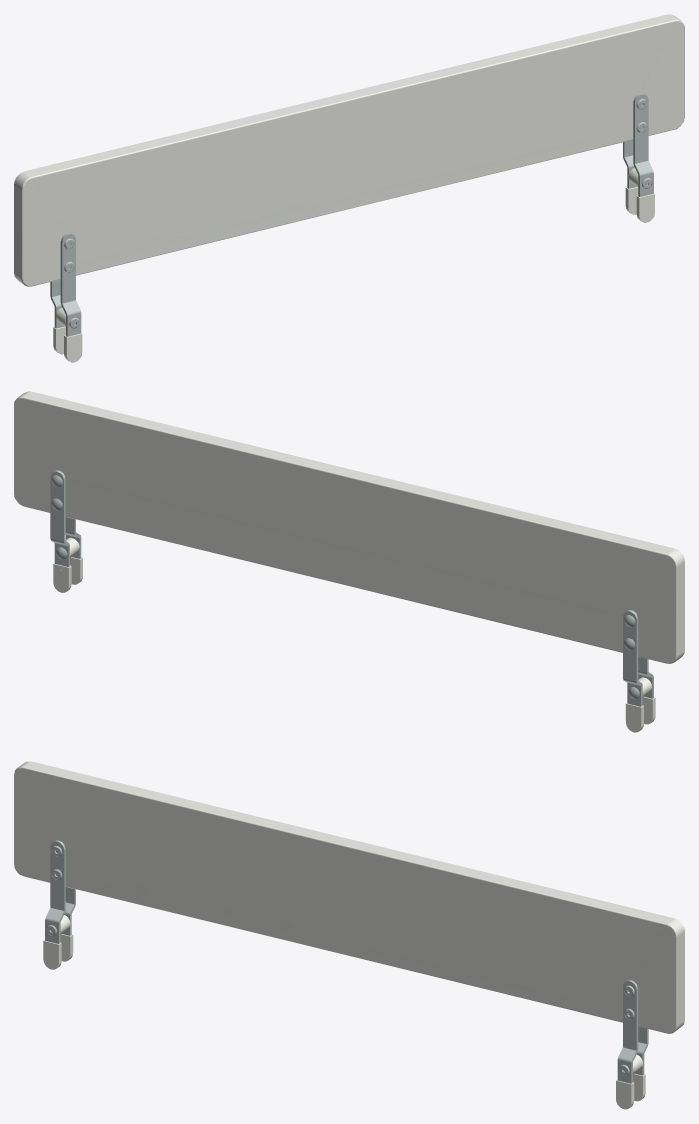
The model's file is nattapa_barierka_ochronna_50465761.glb.
The picture shows the model from 3 angles, top to bottom: view 1: azimuth 30°, elevation 25°; view 2: azimuth 150°, elevation 25°; view 3: azimuth 330°, elevation 25°; orthographic projection.
Parts seen in each view (by area): view 1: nattapa_barierka_ochronna_50465761; view 2: nattapa_barierka_ochronna_50465761; view 3: nattapa_barierka_ochronna_50465761.
Boxes of the visible parts, x1,y1,x2,y2 form: nattapa_barierka_ochronna_50465761: [14, 14, 684, 362]; nattapa_barierka_ochronna_50465761: [14, 391, 684, 732]; nattapa_barierka_ochronna_50465761: [14, 761, 684, 1109].
Size of the model in its own units: 0.96 by 0.2605 by 0.0484.
Materials: 1 (1 with a texture image).
